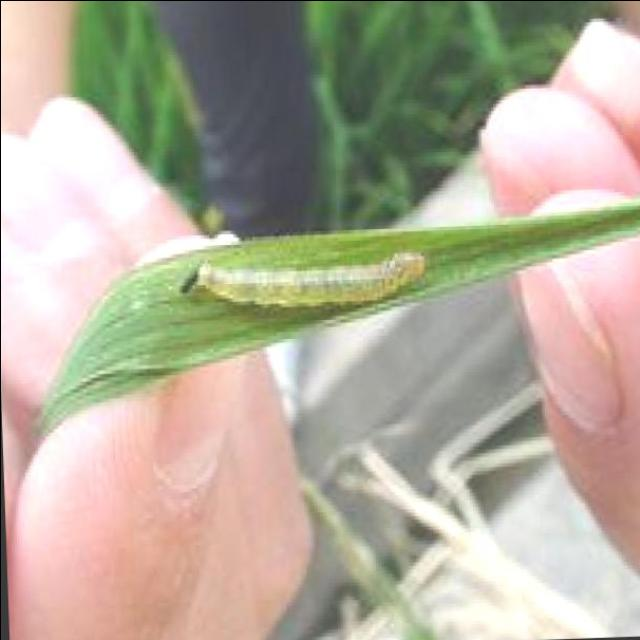leaf folder: (190, 252, 423, 305)
